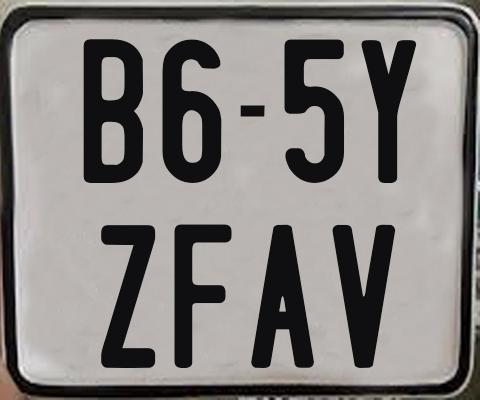5: (282, 38, 348, 186)
6: (160, 36, 220, 184)
A: (250, 222, 315, 371)
B: (81, 37, 144, 184)
F: (171, 221, 235, 370)
V: (331, 224, 397, 367)
Y: (359, 39, 420, 185)
Z: (98, 224, 154, 372)
